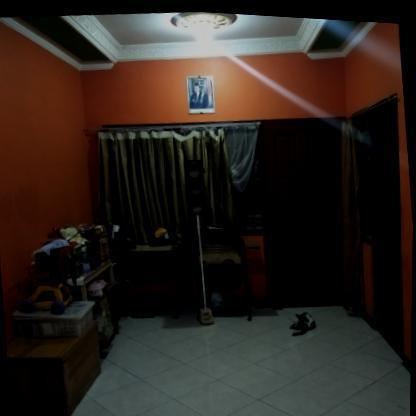yellow: (184, 155, 208, 213)
